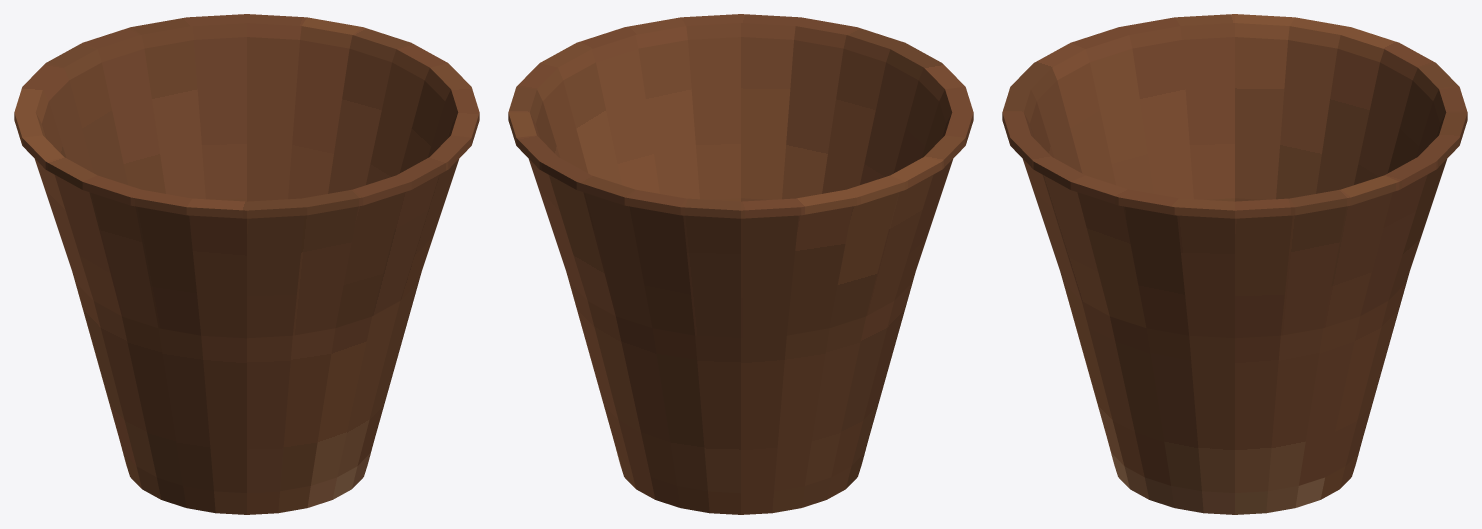
File: vessel-deep.glb
The picture shows the model from 3 angles, left to right: view 1: azimuth 30°, elevation 25°; view 2: azimuth 150°, elevation 25°; view 3: azimuth 270°, elevation 25°; orthographic projection.
Visible parts, largest first — view 1: vessel-deep/complete-inner-outer-shell-with-drainage; view 2: vessel-deep/complete-inner-outer-shell-with-drainage; view 3: vessel-deep/complete-inner-outer-shell-with-drainage.
Boxes of the visible parts, x1=… form: vessel-deep/complete-inner-outer-shell-with-drainage: x1=14, y1=14, x2=479, y2=514; vessel-deep/complete-inner-outer-shell-with-drainage: x1=508, y1=14, x2=973, y2=514; vessel-deep/complete-inner-outer-shell-with-drainage: x1=1002, y1=14, x2=1467, y2=514.
Bounding box in the file's own units: 0.5169 × 0.447 × 0.5169.
1 material, 1 textured.
